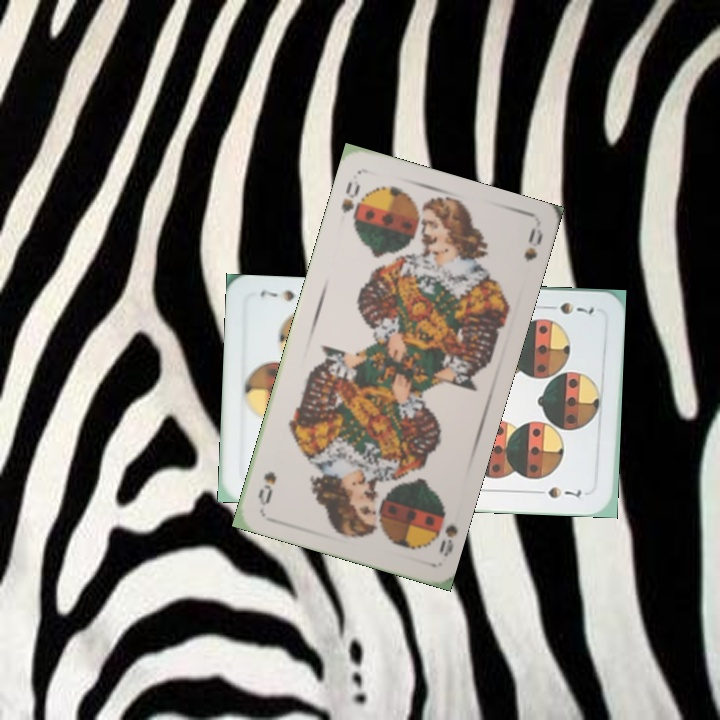S7: (540, 298, 599, 317)
SO: (428, 501, 460, 559), (337, 176, 365, 230)
